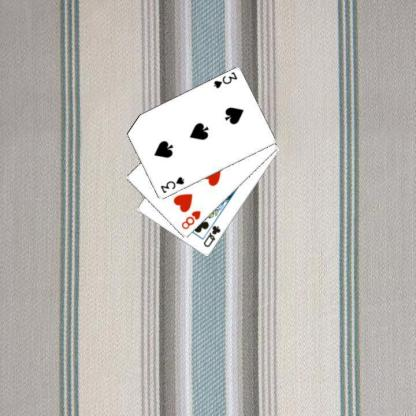3S: (158, 174, 185, 194), (211, 70, 238, 90)
8H: (179, 208, 202, 230)
QC: (200, 223, 222, 248)
